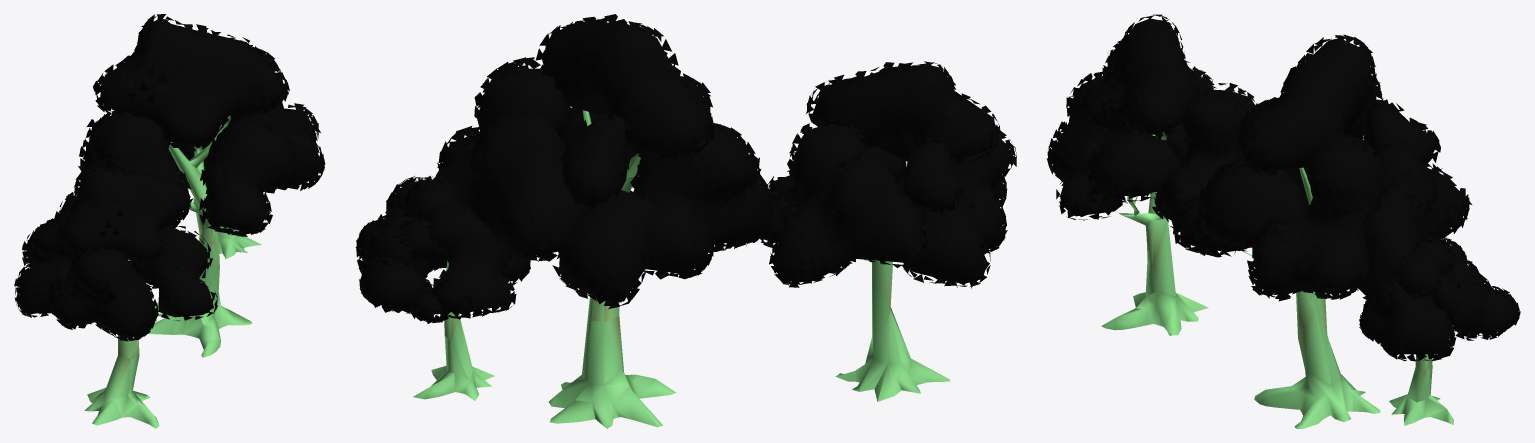
File: SM_ENV_LKNVLD_TreeSet_K_Lod2.gltf
The picture shows the model from 3 angles, left to right: view 1: azimuth 30°, elevation 25°; view 2: azimuth 150°, elevation 25°; view 3: azimuth 270°, elevation 25°; orthographic projection. The views are drawn at different scales.
Parts seen in each view (by area): view 1: SM_ENV_LKNVLD_TreeSet_K_Lod2; view 2: SM_ENV_LKNVLD_TreeSet_K_Lod2; view 3: SM_ENV_LKNVLD_TreeSet_K_Lod2.
Boxes of the visible parts, x1=… form: SM_ENV_LKNVLD_TreeSet_K_Lod2: x1=14, y1=14, x2=325, y2=428; SM_ENV_LKNVLD_TreeSet_K_Lod2: x1=355, y1=14, x2=1016, y2=428; SM_ENV_LKNVLD_TreeSet_K_Lod2: x1=1046, y1=14, x2=1520, y2=428.
Size of the model in its own units: 22.05 by 17.2 by 20.58.
